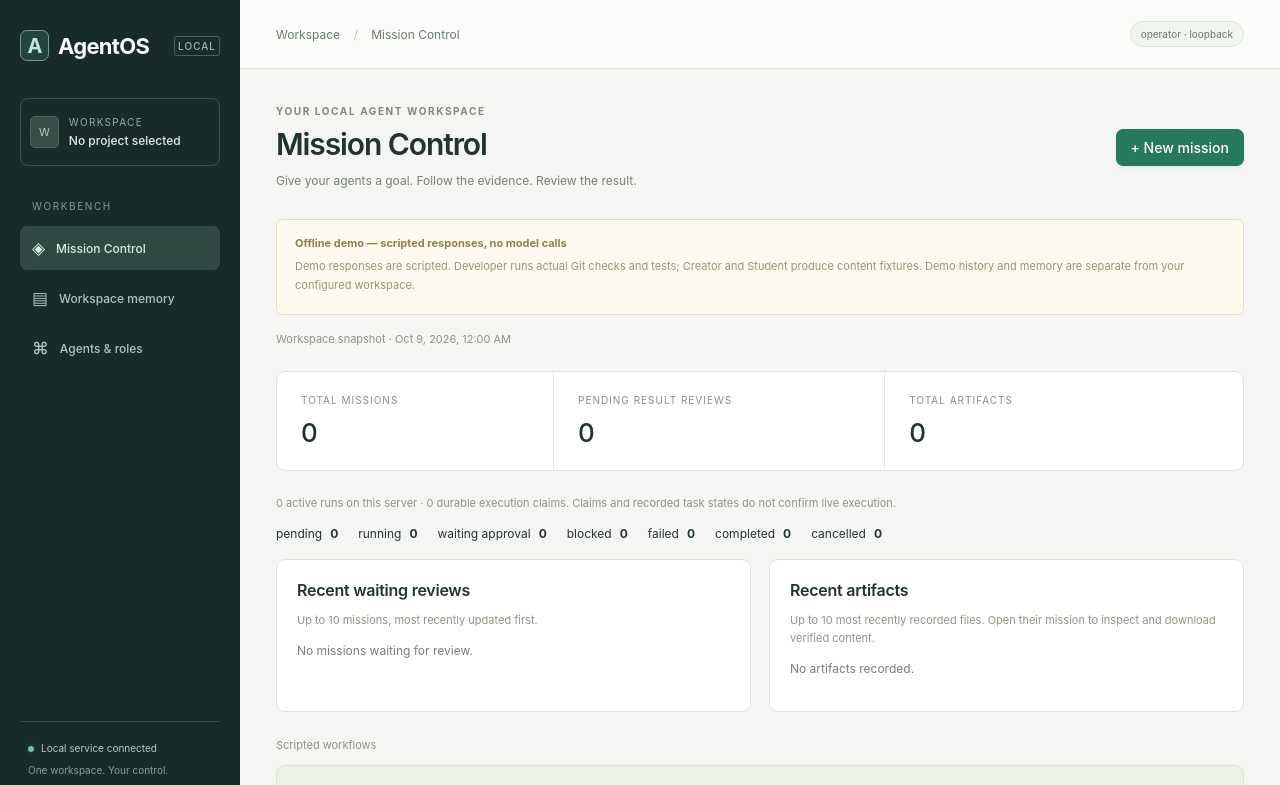
Scenario: thumbnail opt-in is explicit and respects readiness and demo ({"mode":"demo","ready":true})
Click the button "+ New mission". click: [1180, 148]
box: [1116, 129, 1244, 166]
(page scrolled)
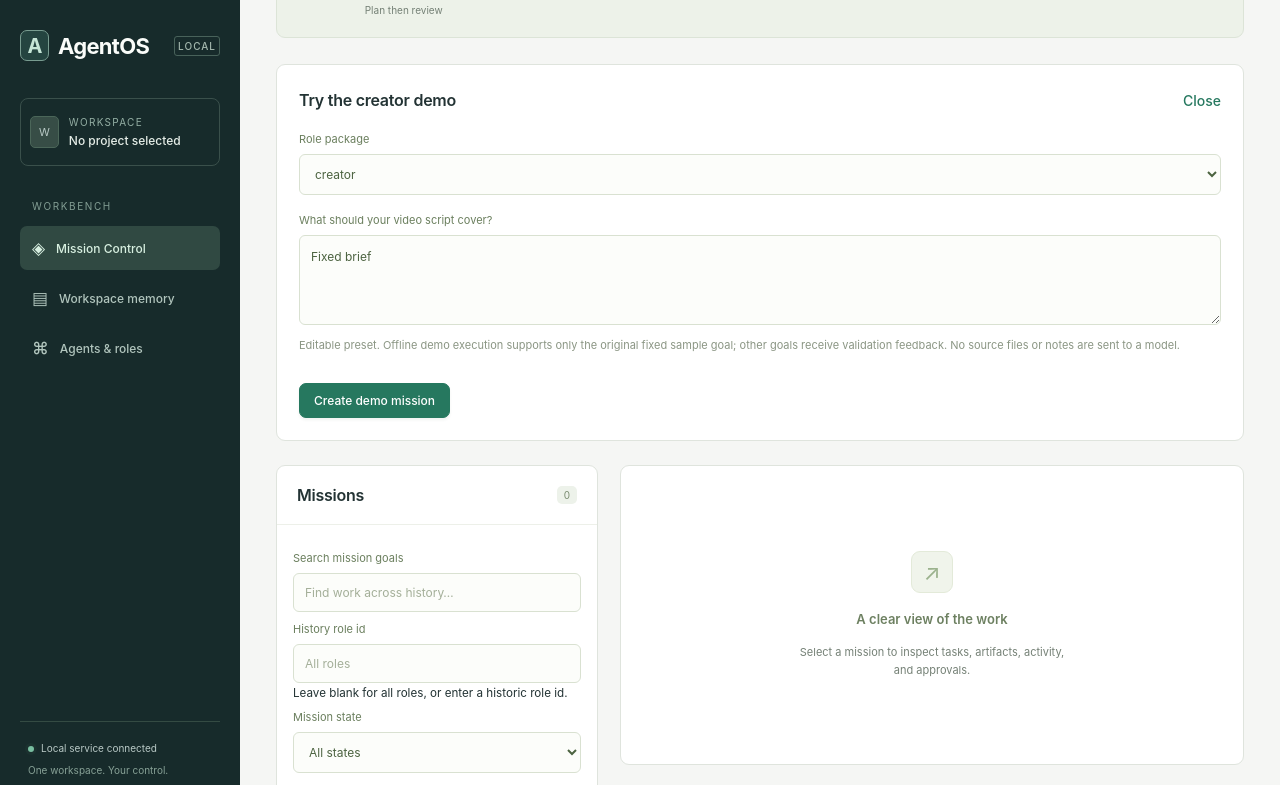
Click the button "Create demo mission". click: [375, 400]
box: [299, 383, 450, 418]
(page scrolled)
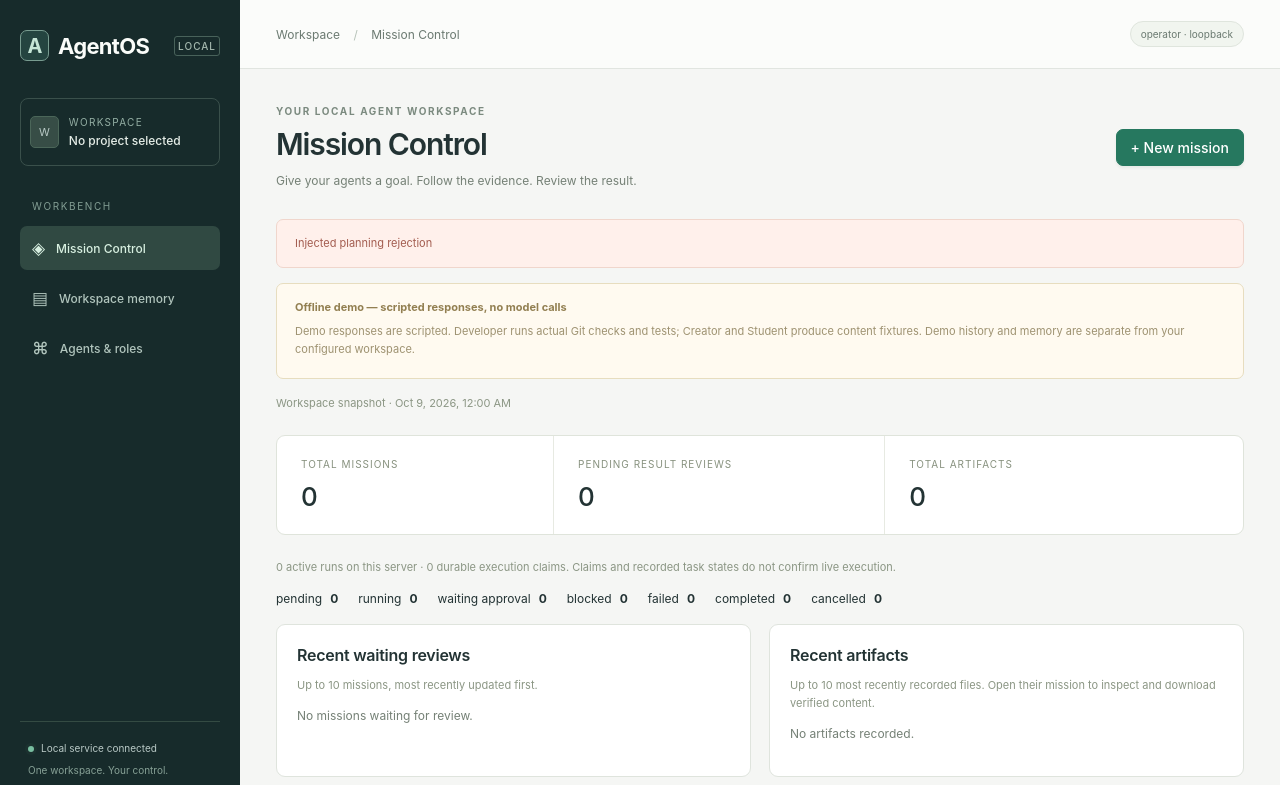
Now the text "Injected planning rejection" is shown, box [276, 219, 1244, 268]
